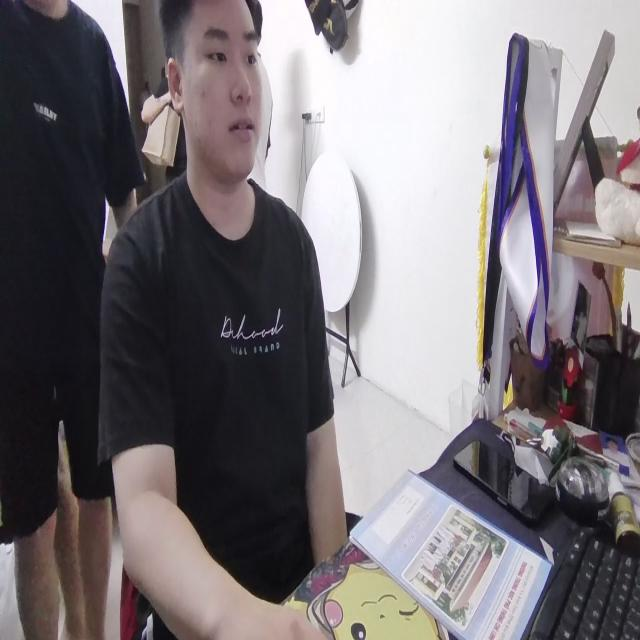book: (351, 466, 553, 640)
extra_person: (1, 0, 140, 640)
student: (101, 0, 350, 640)
